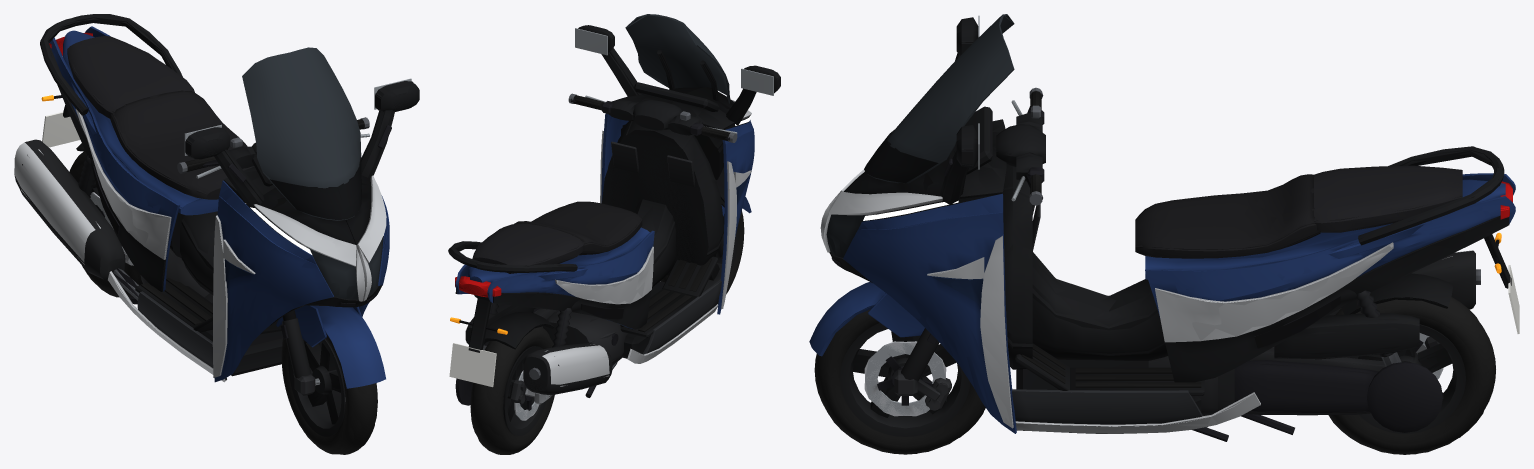
The model's file is bike14_forza.glb.
3 views of the same model, side by side, from view 1: azimuth 30°, elevation 25°; view 2: azimuth 150°, elevation 25°; view 3: azimuth 270°, elevation 25° (orthographic). The views are drawn at different scales.
Parts seen in each view (by area): view 1: body (×2), wheel_front (×2), handlebar (×2), headlight, fork_right, wheel_rear (×2); view 2: body (×2), wheel_rear (×2), handlebar (×2), wheel_front, brake_light; view 3: body (×2), wheel_front (×2), wheel_rear (×2), handlebar (×2), disc_front (×2), headlight, fork_left.
Part boxes in pixels (x1,y1,x2,y2): body (×2): [14, 14, 419, 385]; wheel_front (×2): [281, 333, 377, 454]; handlebar (×2): [177, 117, 385, 388]; headlight: [227, 184, 383, 299]; fork_right: [282, 310, 315, 395]; wheel_rear (×2): [69, 151, 142, 297]; body (×2): [448, 14, 780, 405]; wheel_rear (×2): [470, 326, 554, 454]; handlebar (×2): [568, 93, 751, 216]; wheel_front: [702, 214, 744, 292]; brake_light: [455, 276, 501, 297]; body (×2): [820, 14, 1519, 441]; wheel_front (×2): [814, 309, 985, 454]; wheel_rear (×2): [1328, 297, 1495, 454]; handlebar (×2): [809, 87, 1045, 356]; disc_front (×2): [864, 341, 946, 416]; headlight: [826, 195, 995, 257]; fork_left: [894, 328, 948, 410].
Bounding box in the file's own units: 0.936 × 1.43 × 2.15.
